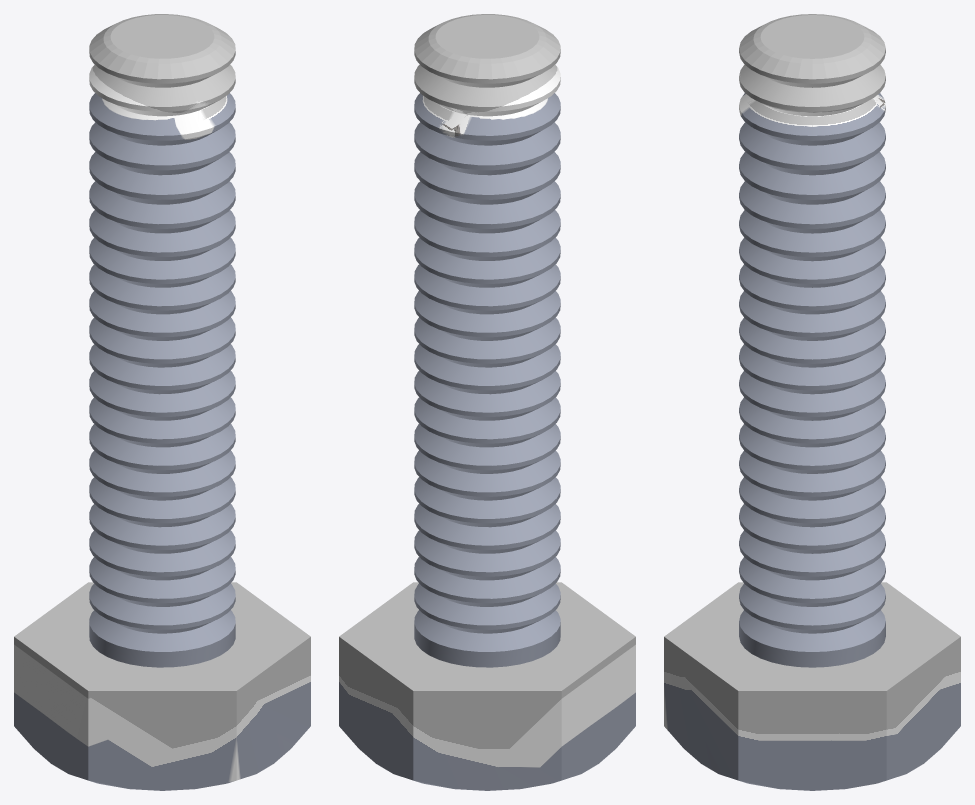
The picture shows the model from 3 angles, left to right: view 1: azimuth 30°, elevation 25°; view 2: azimuth 150°, elevation 25°; view 3: azimuth 270°, elevation 25°; orthographic projection.
Visible parts, largest first — view 1: bolts_ts.002; view 2: bolts_ts.002; view 3: bolts_ts.002.
Part boxes in pixels (bbox=[...]): bolts_ts.002: bbox=[14, 14, 310, 790]; bolts_ts.002: bbox=[339, 14, 635, 790]; bolts_ts.002: bbox=[664, 14, 960, 790].
Size of the model in its own units: 0.3476 by 1.04 by 0.4013.
1 material, 1 textured.
